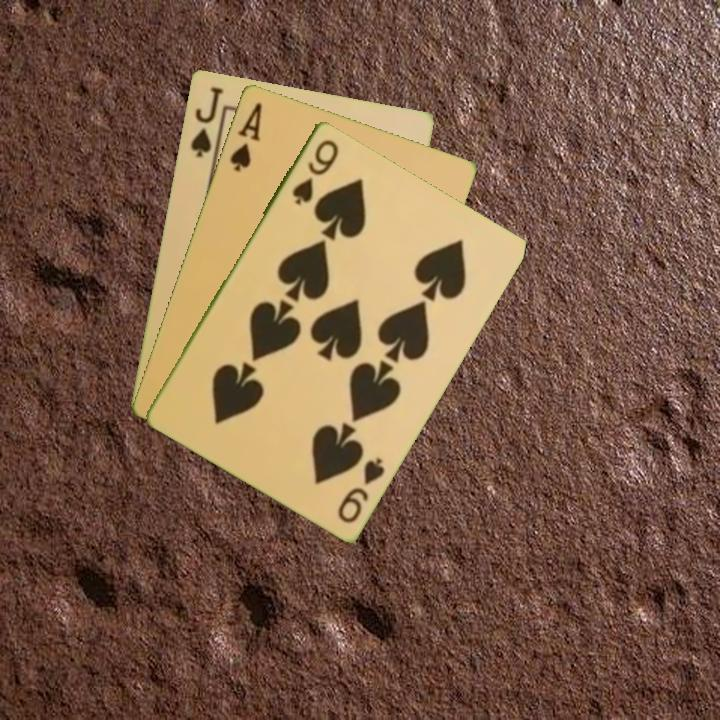9s: (288, 135, 342, 208), (334, 453, 388, 526)
As: (226, 98, 265, 174)
Js: (187, 83, 226, 160)
